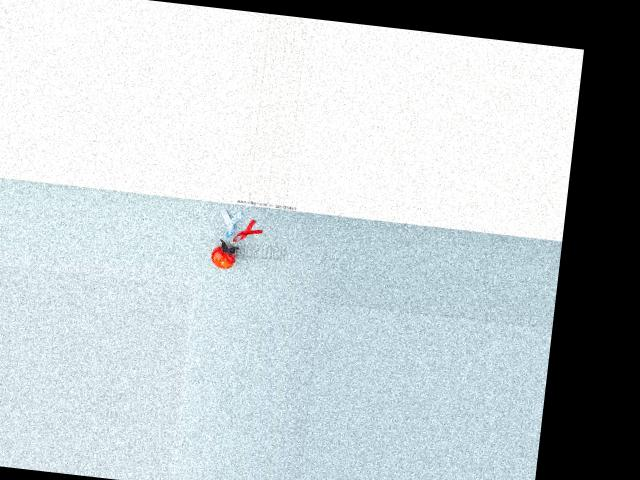tomato: (210, 244, 237, 269)
